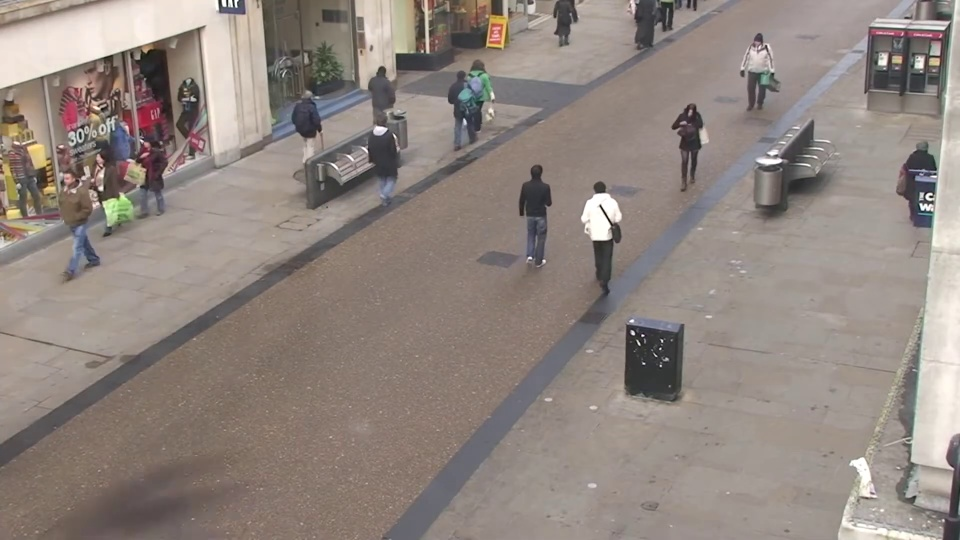pedestrian: (42, 171, 93, 278), (77, 148, 124, 249), (892, 131, 938, 234), (124, 136, 166, 234), (585, 168, 620, 279), (523, 157, 558, 265), (372, 106, 405, 199), (672, 102, 703, 194), (297, 85, 329, 171), (453, 64, 482, 146), (375, 60, 404, 140), (467, 55, 495, 133), (739, 37, 767, 112)
